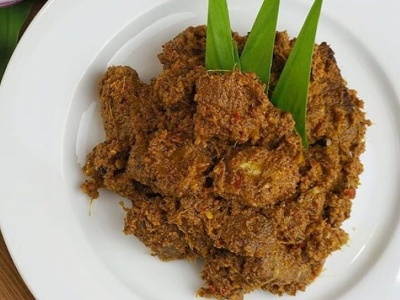rendang: (113, 45, 347, 276)
